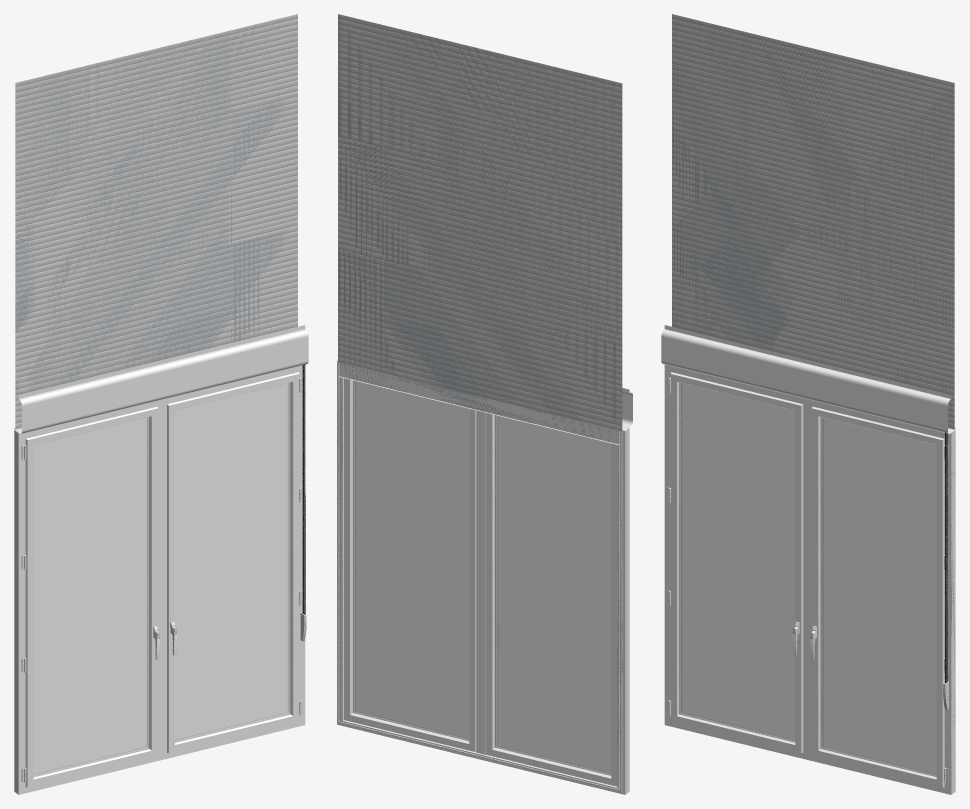
Rendered from Window3_150x200x[2 casement_blinds].dae.
3 renders of one model, left to right at view 1: azimuth 30°, elevation 25°; view 2: azimuth 150°, elevation 25°; view 3: azimuth 330°, elevation 25°, orthographic.
Visible parts, largest first — view 1: group_11 (×4), group_23, group_9 (×5), group_19, group_28; view 2: group_11 (×4), group_23 (×2), group_9 (×5), group_19, group_22 (×2); view 3: group_11 (×4), group_23, group_9 (×5), group_19 (×2), group_28.
Boxes of the visible parts, x1,y1,x2,y2 form: group_11 (×4): (33, 382, 290, 776); group_23: (15, 14, 297, 428); group_9 (×5): (25, 372, 299, 787); group_19: (14, 365, 305, 794); group_28: (18, 325, 308, 433); group_11 (×4): (353, 380, 611, 775); group_23 (×2): (338, 14, 622, 444); group_9 (×5): (344, 378, 617, 786); group_19: (337, 360, 629, 794); group_22 (×2): (337, 362, 622, 791); group_11 (×4): (679, 382, 936, 776); group_23: (672, 14, 954, 428); group_9 (×5): (671, 372, 944, 787); group_19 (×2): (664, 364, 955, 794); group_28: (661, 325, 951, 433).
Bounding box in the file's own units: 59.06 × 4.16 × 139.
Materials: 12 (1 with a texture image).
